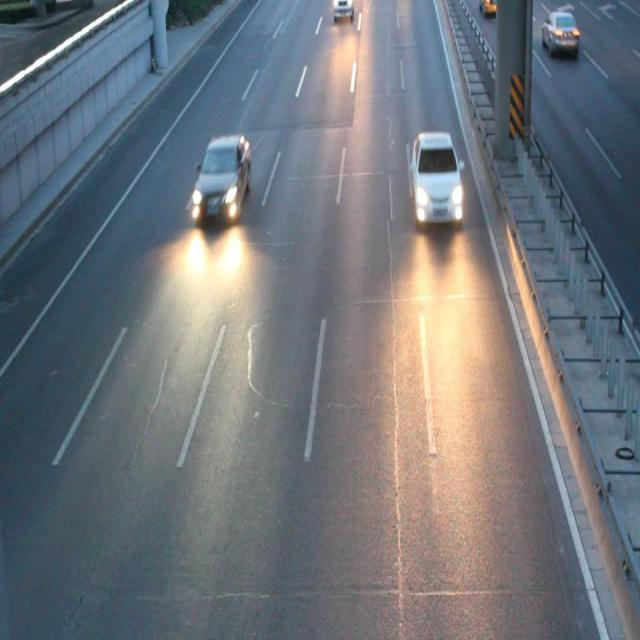car: (192, 134, 250, 218), (410, 132, 461, 220), (541, 12, 577, 50), (476, 2, 500, 15)
truck: (333, 1, 353, 17)
